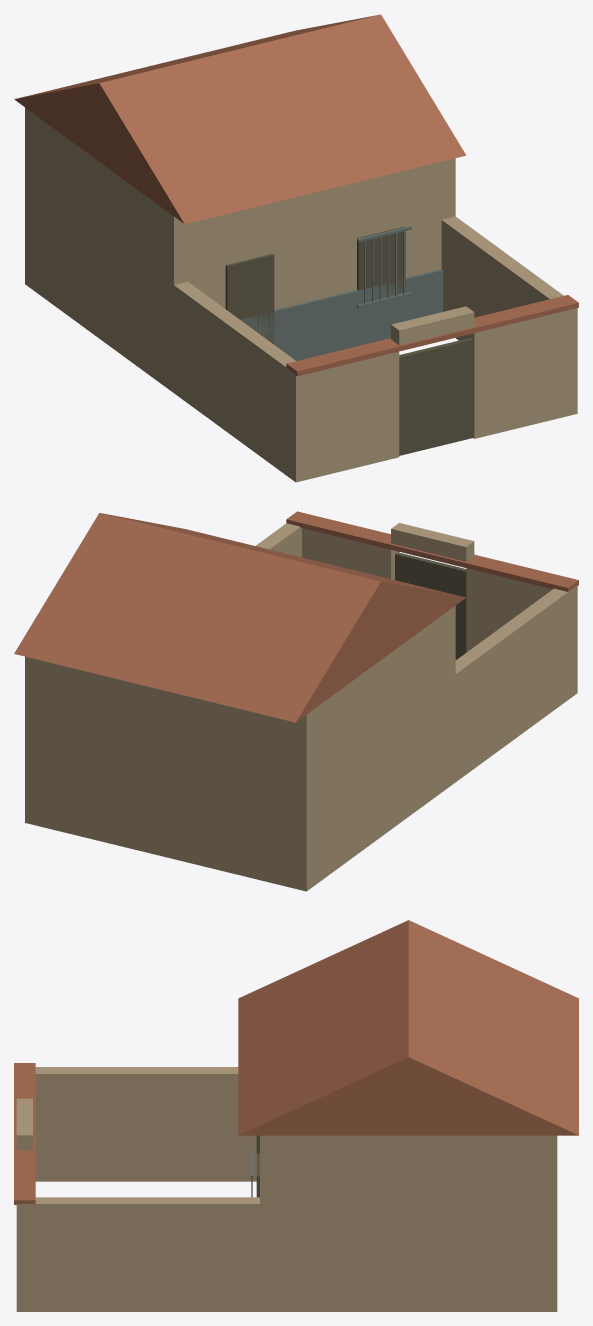
File: SM_CasaPatio_v0_Porton_LOD0.fbx
The picture shows the model from 3 angles, top to bottom: view 1: azimuth 30°, elevation 25°; view 2: azimuth 150°, elevation 25°; view 3: azimuth 270°, elevation 25°; orthographic projection.
Visible parts, largest first — view 1: SM_pueblo_valenciano_v15_LOD0; view 2: SM_pueblo_valenciano_v15_LOD0; view 3: SM_pueblo_valenciano_v15_LOD0.
Part boxes in pixels (left/top/right/bottom): SM_pueblo_valenciano_v15_LOD0: left=14, top=14, right=578, bottom=482; SM_pueblo_valenciano_v15_LOD0: left=14, top=511, right=578, bottom=891; SM_pueblo_valenciano_v15_LOD0: left=14, top=920, right=578, bottom=1311.
Bounding box in the file's own units: 6 × 5.2 × 10.45.
